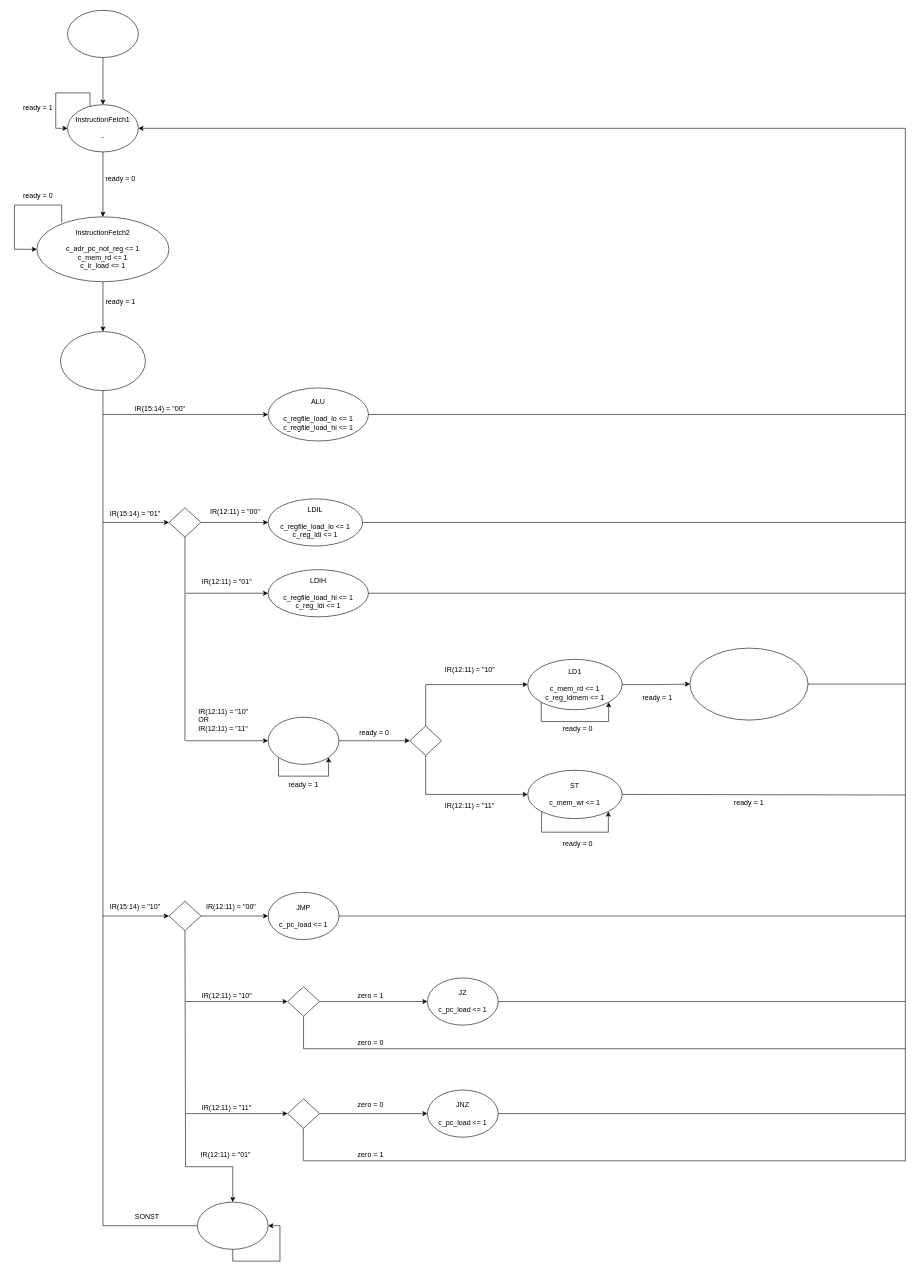
The diagram is 920 pixels wide and 1276 high, and some of its shapes have lost their labels. Here are the shapes that lost their labels. From the top down, the centre of each, then its label:
(x=102, y=34): RESET -
(x=102, y=361): InstructionDecode c_pc_inc <= 1
(x=748, y=684): LD2 c_mem_rd <= 1 c_reg_ldmem <= 1 c_regfile_load_lo <= 1 c_regfile_load_hi <= 1
(x=303, y=740): WAIT -
(x=232, y=1225): HALT -
